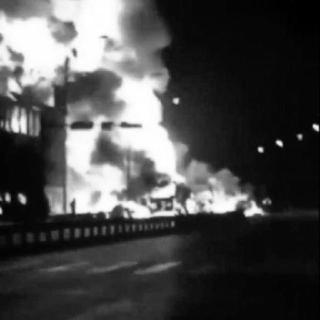Fire: (3, 0, 273, 218)
